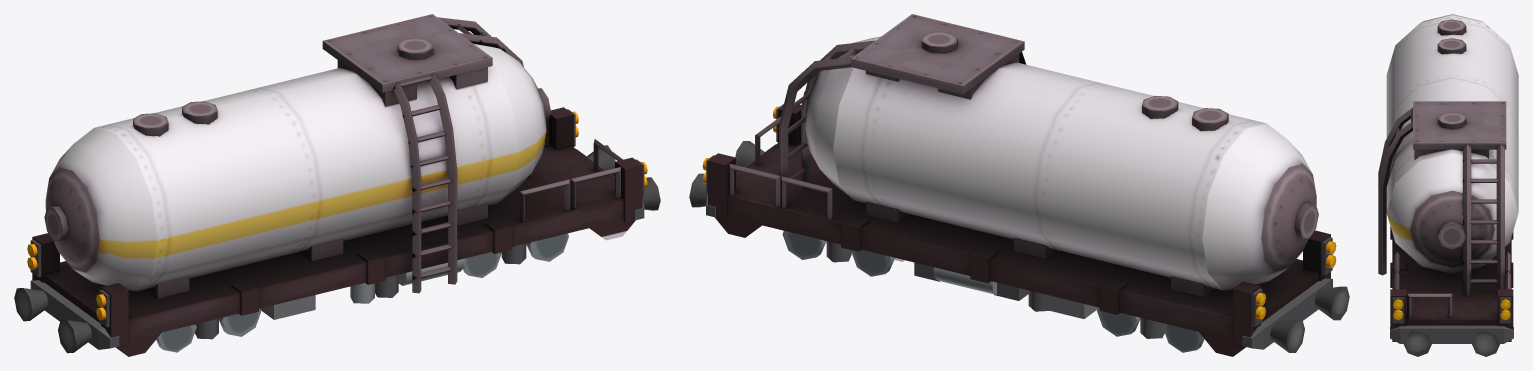
File: Goederen_OilTank.FBX
The picture shows the model from 3 angles, left to right: view 1: azimuth 30°, elevation 25°; view 2: azimuth 150°, elevation 25°; view 3: azimuth 270°, elevation 25°; orthographic projection. The views are drawn at different scales.
Parts seen in each view (by area): view 1: LageBox, TrainLocomotive, Object002, Object001, Object004; view 2: LageBox, TrainLocomotive, Object002, Object001, Object004; view 3: LageBox, Object001, Object003.
Part boxes in pixels (x1=…): LageBox: x1=32, y1=14, x2=642, y2=356; TrainLocomotive: x1=156, y1=233, x2=568, y2=352; Object002: x1=14, y1=280, x2=119, y2=353; Object001: x1=576, y1=145, x2=660, y2=220; Object004: x1=27, y1=239, x2=109, y2=327; LageBox: x1=708, y1=14, x2=1330, y2=356; TrainLocomotive: x1=782, y1=230, x2=1204, y2=352; Object002: x1=1242, y1=278, x2=1349, y2=352; Object001: x1=689, y1=141, x2=775, y2=217; Object004: x1=1252, y1=237, x2=1336, y2=326; LageBox: x1=1378, y1=14, x2=1518, y2=341; Object001: x1=1390, y1=325, x2=1513, y2=356; Object003: x1=1392, y1=297, x2=1511, y2=323.
Size of the model in its own units: 1170 by 430 by 311.
Materials: 6 (6 with a texture image).
